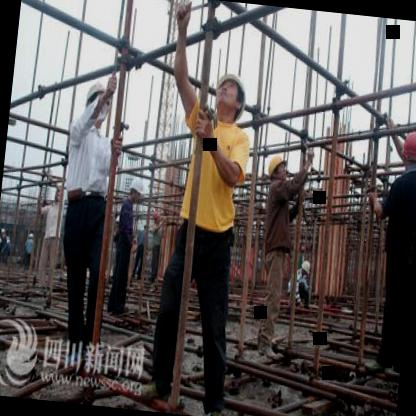helmet: (210, 66, 251, 126), (80, 78, 112, 124), (394, 130, 416, 169), (264, 151, 290, 179), (125, 174, 145, 204), (298, 254, 312, 278)
